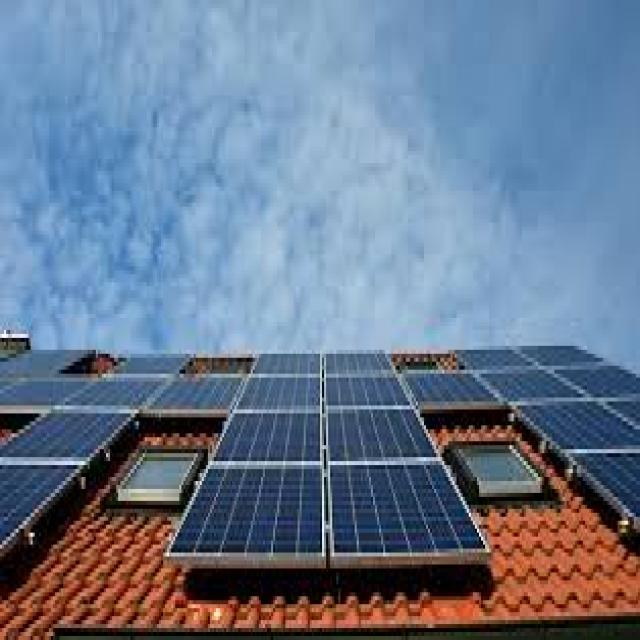clean-solar-panel: (0, 344, 640, 561)
